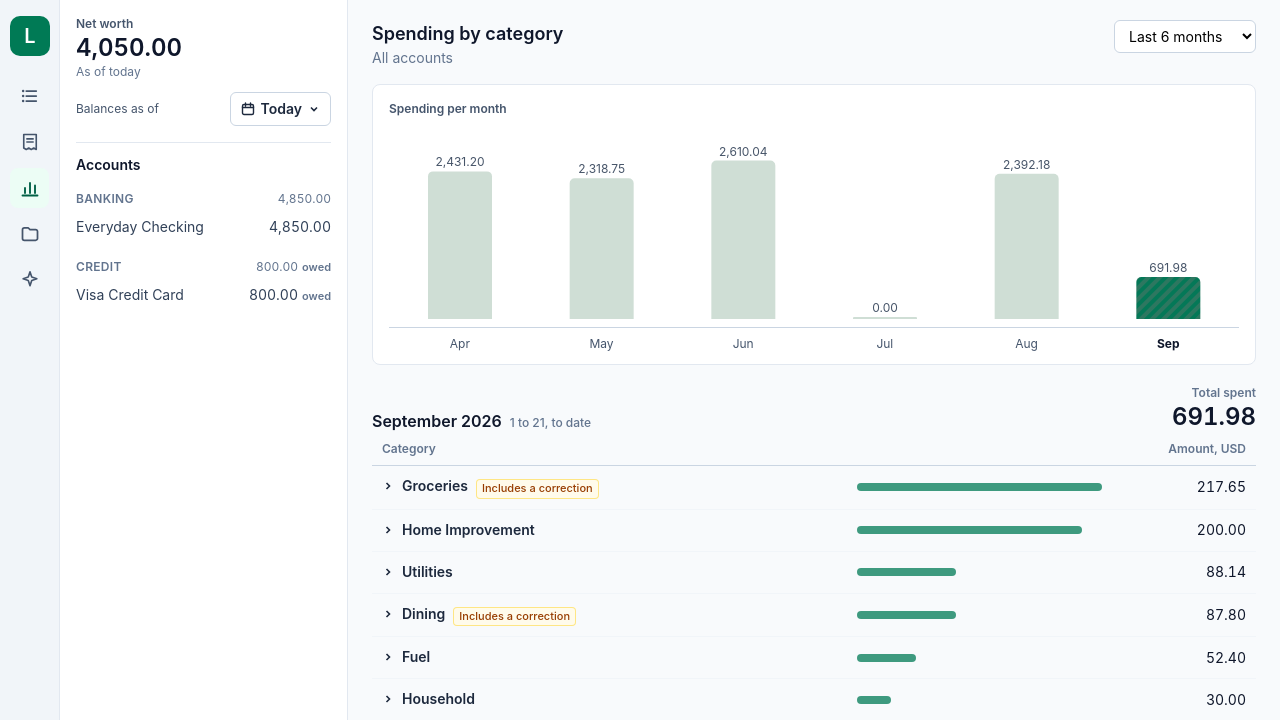
Test case: the month series › reaches the zero month by clicking its bar
This screenshot has width=1280, height=720.
Click the button "Jul".
click(885, 344)  # box [814,336,956,352]
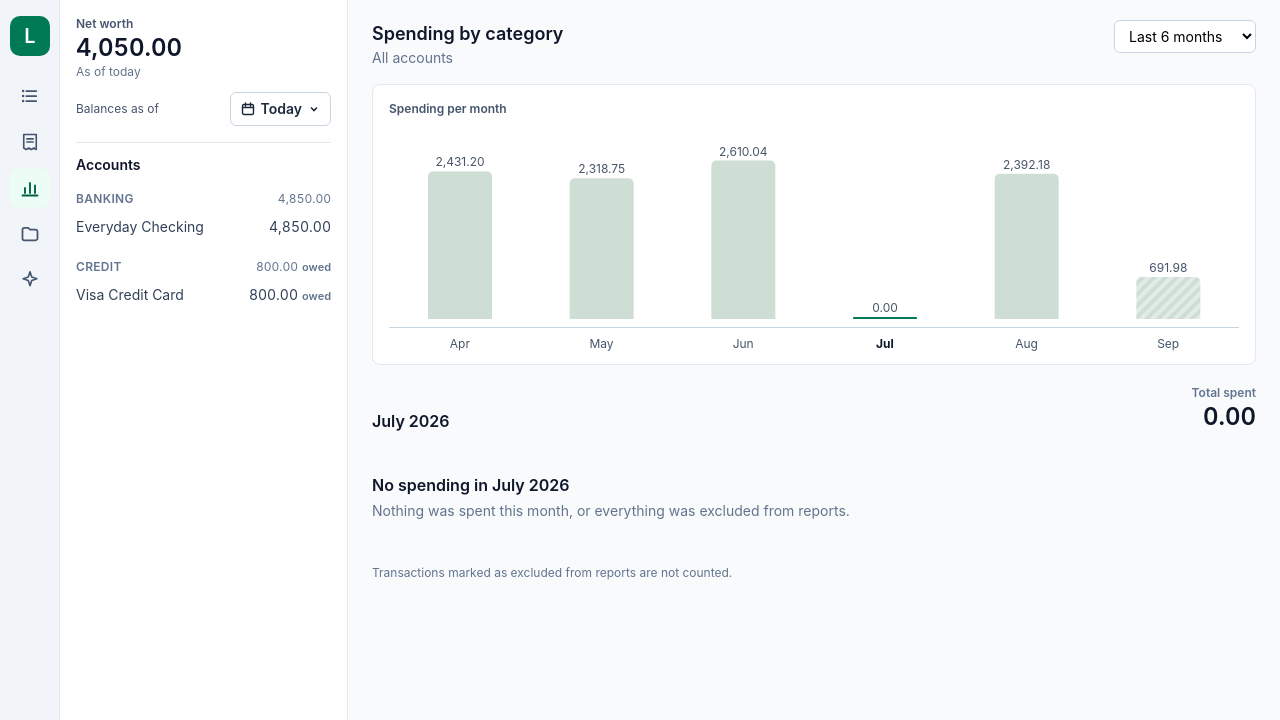
Expected: the heading "No spending in July 2026" is shown, [372,475,570,495]
